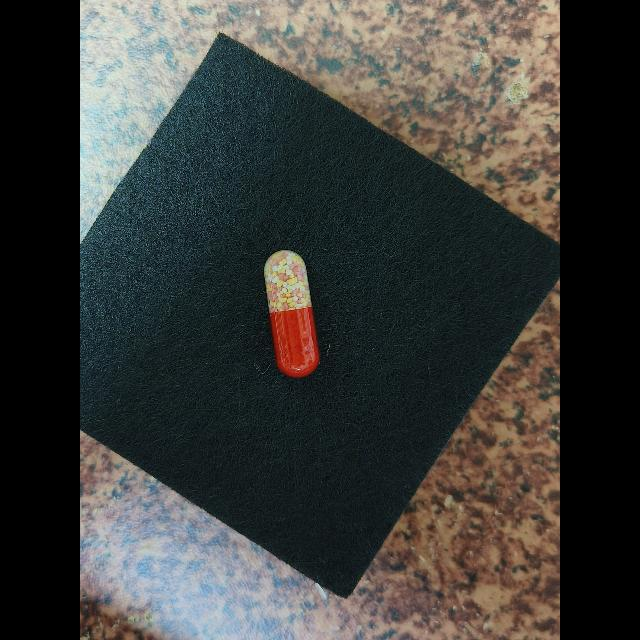Intact Capsule: (264, 250, 320, 377)
